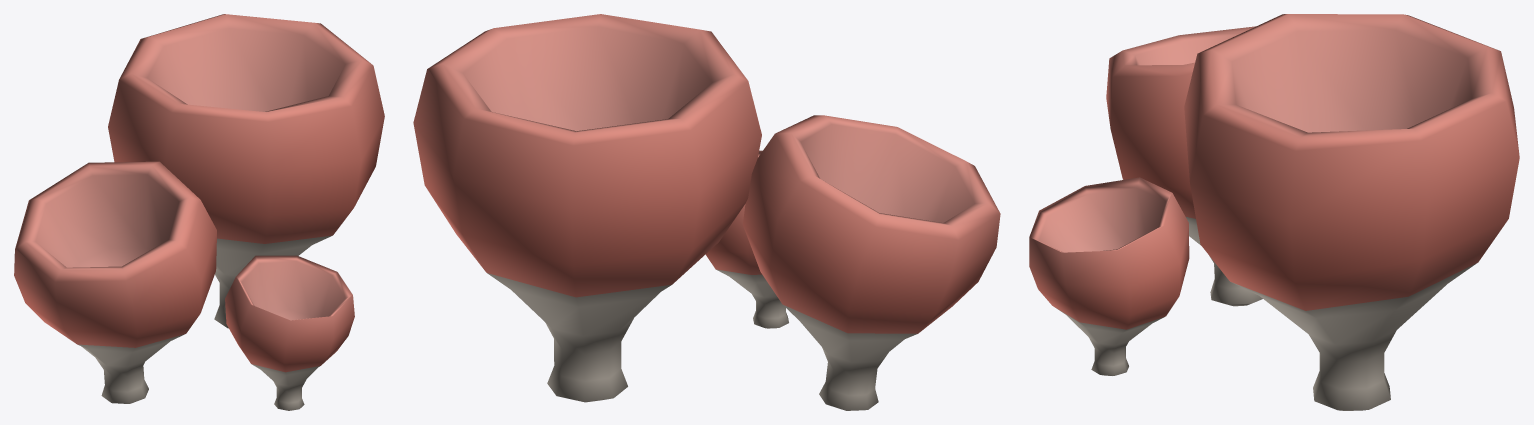
3 renders of one model, left to right at view 1: azimuth 30°, elevation 25°; view 2: azimuth 150°, elevation 25°; view 3: azimuth 270°, elevation 25°, orthographic. The views are drawn at different scales.
Parts seen in each view (by area): view 1: lowpolymushroom_09; view 2: lowpolymushroom_09; view 3: lowpolymushroom_09.
Part boxes in pixels (bbox=[...]): lowpolymushroom_09: bbox=[14, 14, 384, 410]; lowpolymushroom_09: bbox=[413, 14, 1000, 410]; lowpolymushroom_09: bbox=[1029, 14, 1519, 410].
Size of the model in its own units: 0.6172 by 0.4093 by 0.5443.
